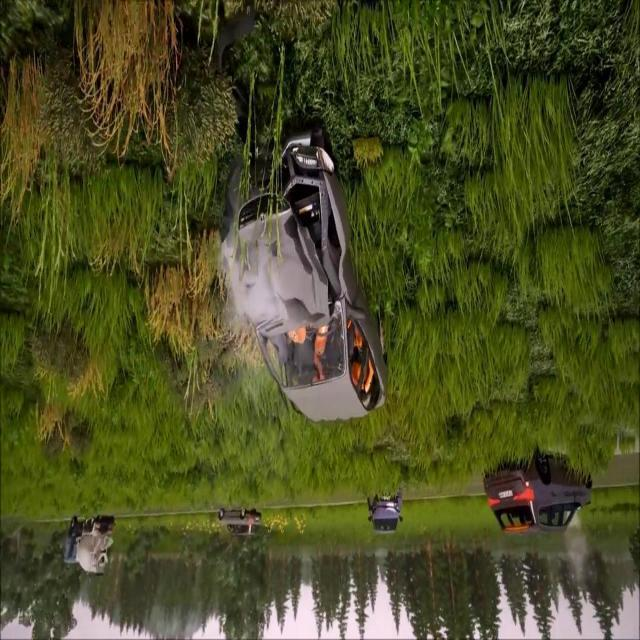severe: (214, 111, 395, 431)
